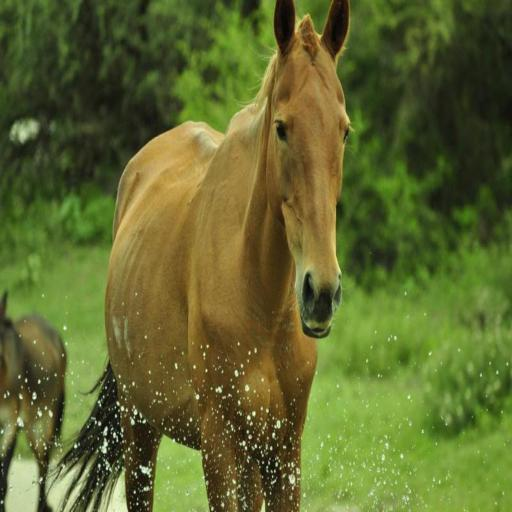horse: (39, 0, 357, 511)
